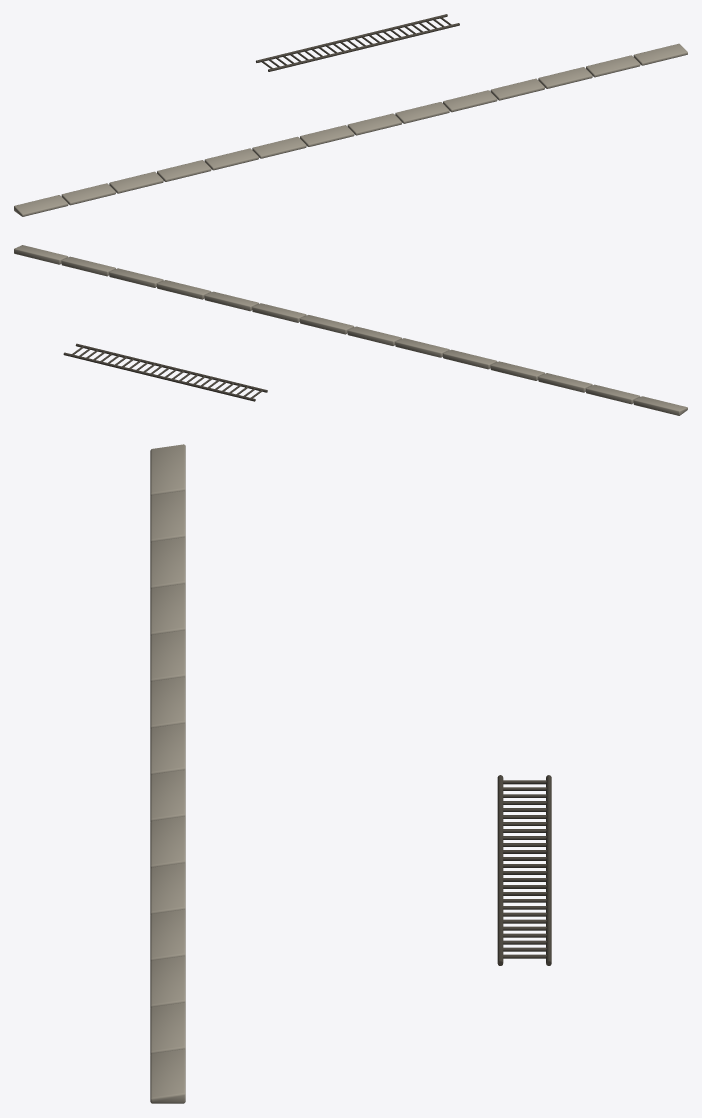
File: forecourt-detail.glb
3 renders of one model, top to bottom at view 1: azimuth 30°, elevation 25°; view 2: azimuth 150°, elevation 25°; view 3: azimuth 270°, elevation 25°, orthographic. The views are drawn at different scales.
Visible parts, largest first — view 1: AuthoredKerbAndDrain; view 2: AuthoredKerbAndDrain; view 3: AuthoredKerbAndDrain.
Boxes of the visible parts, <box> form: AuthoredKerbAndDrain: <box>14,14,687,216</box>; AuthoredKerbAndDrain: <box>14,245,687,415</box>; AuthoredKerbAndDrain: <box>150,444,551,1103</box>.
Size of the model in its own units: 13.97 by 0.1072 by 3.64.
